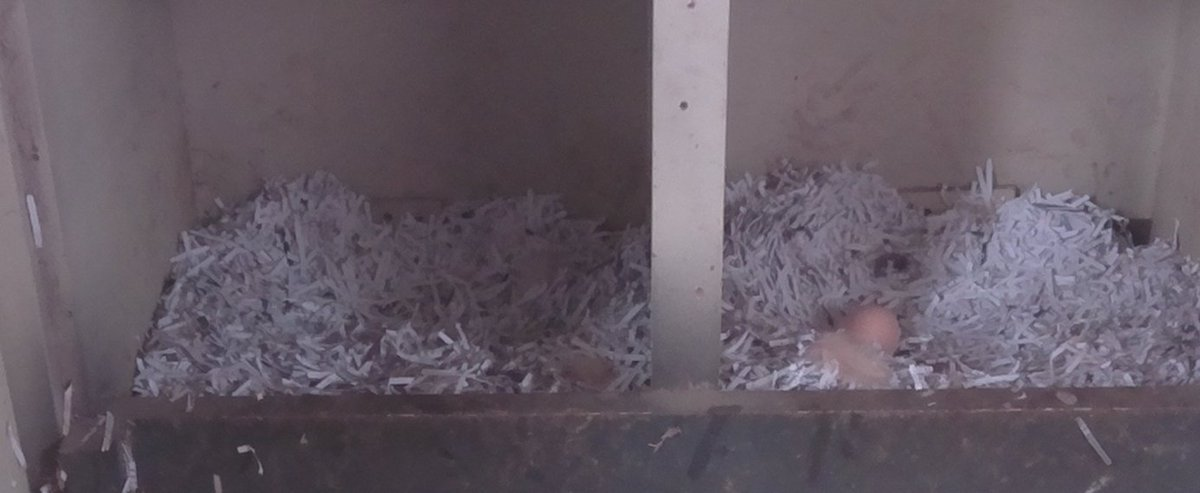egg: (843, 303, 902, 358)
